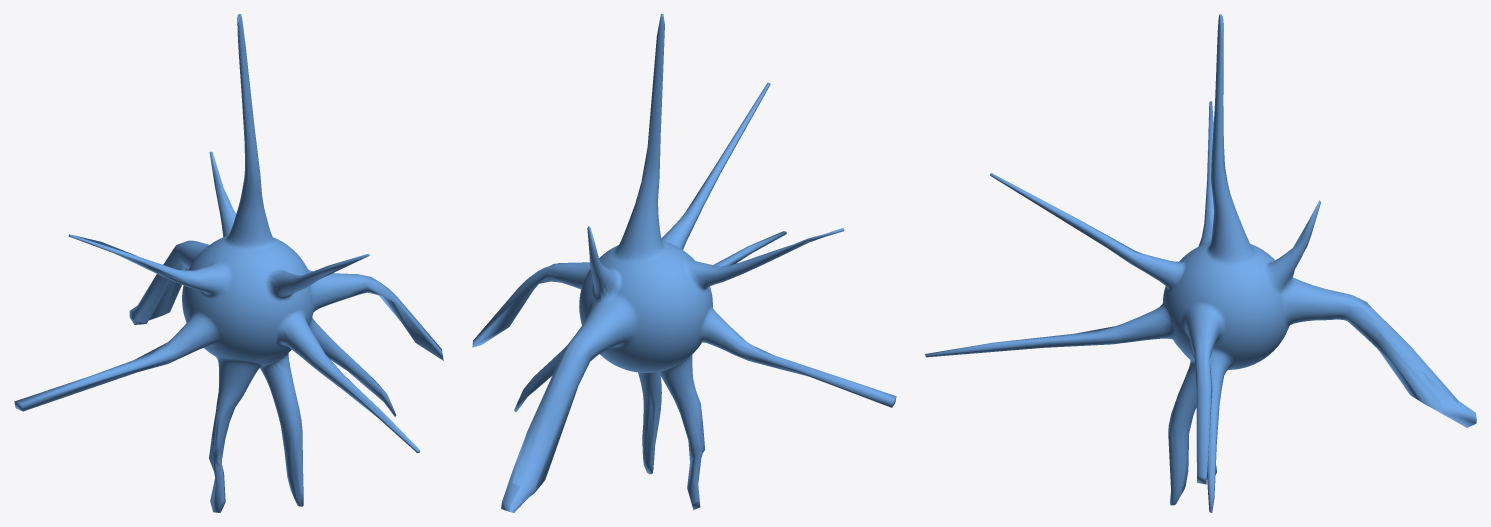
File: Brain_Neuron.glb
The picture shows the model from 3 angles, left to right: view 1: azimuth 30°, elevation 25°; view 2: azimuth 150°, elevation 25°; view 3: azimuth 270°, elevation 25°; orthographic projection. The views are drawn at different scales.
Visible parts, largest first — view 1: Sphere; view 2: Sphere; view 3: Sphere.
Part boxes in pixels (box(x1,y1,x2,y2)): Sphere: box(14, 14, 443, 512); Sphere: box(472, 14, 896, 512); Sphere: box(925, 14, 1476, 512).
Size of the model in its own units: 2.43 by 2.68 by 2.8.
